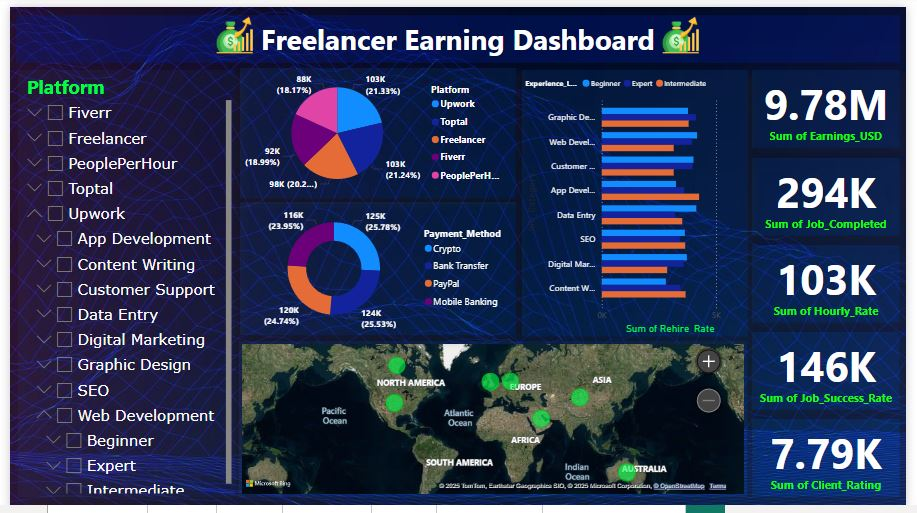

The dashboard page shown, as its layout file describes it:
{"tool":"powerbi","page":{"name":"Dashboard","canvas":[1280,720],"ordinal":0},"visuals":[{"type":"shape","box":[0,3.4,1280,85.7],"z":0},{"type":"image","box":[272.1,6.6,98.9,65.3],"z":1000},{"type":"image","box":[908.5,6.6,98.9,65.3],"z":2000},{"type":"card","fields":{"Values":["Sum(freelancer_earnings_bd.Earnings_USD)"]},"box":[1059.8,89.5,211.2,111],"z":3000},{"type":"card","fields":{"Values":["Sum(freelancer_earnings_bd.Job_Completed)"]},"box":[1060,215.7,211.4,111.4],"z":4000},{"type":"card","fields":{"Values":["Sum(freelancer_earnings_bd.Hourly_Rate)"]},"box":[1060,340,211.4,111.4],"z":5000},{"type":"card","fields":{"Values":["Sum(freelancer_earnings_bd.Client_Rating)"]},"box":[1059.8,589,211.2,111],"z":6000},{"type":"card","fields":{"Values":["Sum(freelancer_earnings_bd.Job_Success_Rate)"]},"box":[1060,464.3,211.4,111.4],"z":7000},{"type":"slicer","fields":{"Values":["freelancer_earnings_bd.Platform","freelancer_earnings_bd.Job_Category","freelancer_earnings_bd.Experience_Level","freelancer_earnings_bd.Client_Region","freelancer_earnings_bd.Project_Type"]},"box":[11.4,90,310,610],"z":8000},{"type":"pieChart","fields":{"Category":["freelancer_earnings_bd.Platform"],"Y":["Sum(freelancer_earnings_bd.Marketing_Spend)"]},"box":[328.2,87.6,393.8,186.2],"z":9000},{"type":"map","fields":{"Size":["Sum(freelancer_earnings_bd.Earnings_USD)"],"Category":["freelancer_earnings_bd.Client_Region"]},"box":[327.4,477.6,725.7,222.5],"z":10000},{"type":"donutChart","fields":{"Category":["freelancer_earnings_bd.Payment_Method"],"Y":["Sum(freelancer_earnings_bd.Marketing_Spend)"]},"box":[327.9,279.2,394,189.9],"z":11000},{"type":"clusteredBarChart","fields":{"Y":["Sum(freelancer_earnings_bd.Rehire_Rate)"],"Category":["freelancer_earnings_bd.Job_Category"],"Series":["freelancer_earnings_bd.Experience_Level"]},"box":[731.3,89.3,321.7,381.3],"z":12000}]}

Visuals, with their boxes in screenshot pixels (x1, y1, x2, y2), scaled from the page's 1280x720 canvas onto the 917x513 screenshot:
shape: detection(0, 2, 916, 63)
image: detection(195, 5, 266, 51)
image: detection(651, 5, 722, 51)
card - Sum(freelancer_earnings_bd.Earnings_USD): detection(759, 64, 911, 143)
card - Sum(freelancer_earnings_bd.Job_Completed): detection(759, 154, 911, 233)
card - Sum(freelancer_earnings_bd.Hourly_Rate): detection(759, 242, 911, 322)
card - Sum(freelancer_earnings_bd.Client_Rating): detection(759, 420, 911, 499)
card - Sum(freelancer_earnings_bd.Job_Success_Rate): detection(759, 331, 911, 410)
slicer - freelancer_earnings_bd.Platform x freelancer_earnings_bd.Job_Category: detection(8, 64, 230, 499)
pieChart - freelancer_earnings_bd.Platform x Sum(freelancer_earnings_bd.Marketing_Spend): detection(235, 62, 517, 195)
map - Sum(freelancer_earnings_bd.Earnings_USD) x freelancer_earnings_bd.Client_Region: detection(235, 340, 754, 499)
donutChart - freelancer_earnings_bd.Payment_Method x Sum(freelancer_earnings_bd.Marketing_Spend): detection(235, 199, 517, 334)
clusteredBarChart - Sum(freelancer_earnings_bd.Rehire_Rate) x freelancer_earnings_bd.Job_Category: detection(524, 64, 754, 335)
